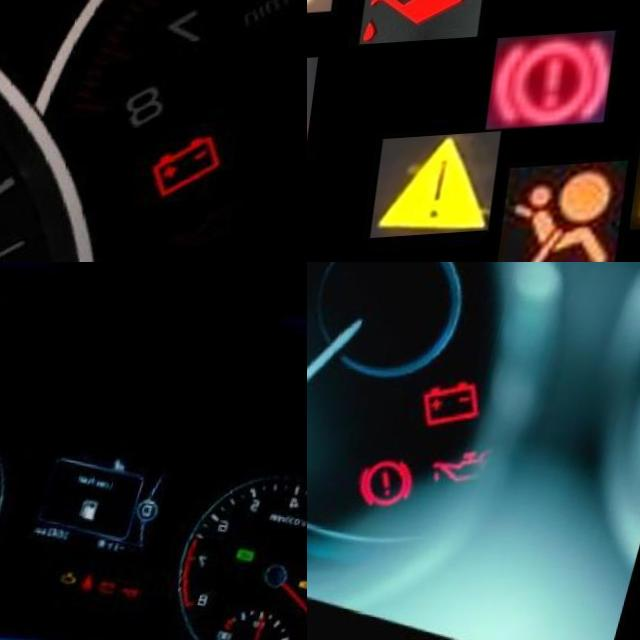Central Warning lamp: (381, 136, 510, 241)
Low fuel level: (83, 504, 106, 529)
